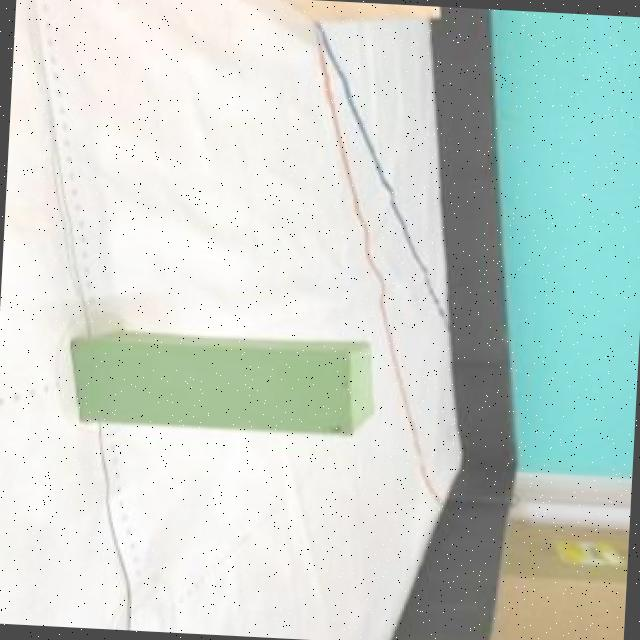greenbox: (70, 327, 381, 438)
